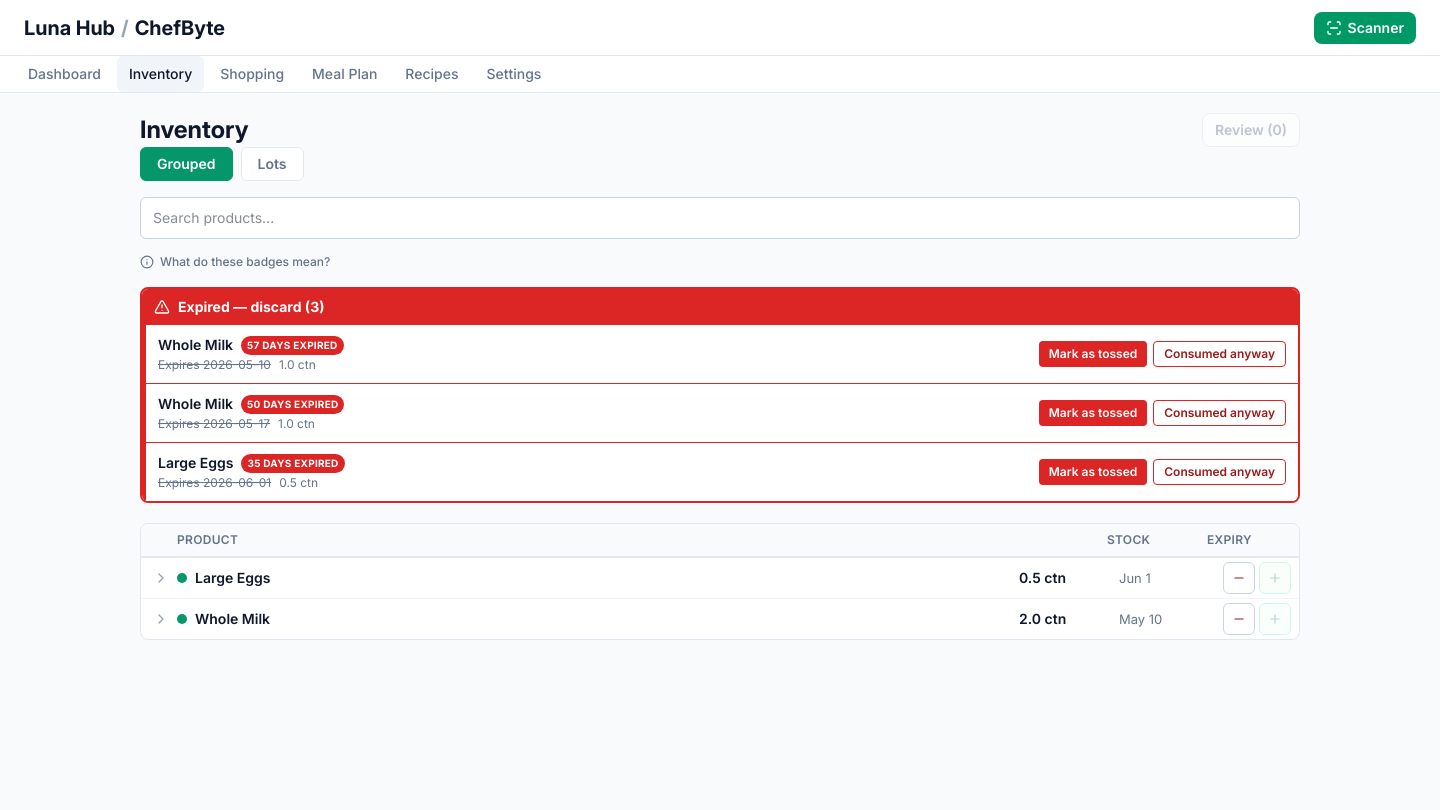
Test: InventoryPage — view-mode toggle › clicking Grouped from lots view returns to grouped view
The width and height of the screenshot is (1440, 810).
Expected: the element with test id "inventory-view-toggle" is shown, [140,147,304,181]
Click the button "Lots": (272, 164) [241,147,304,181]
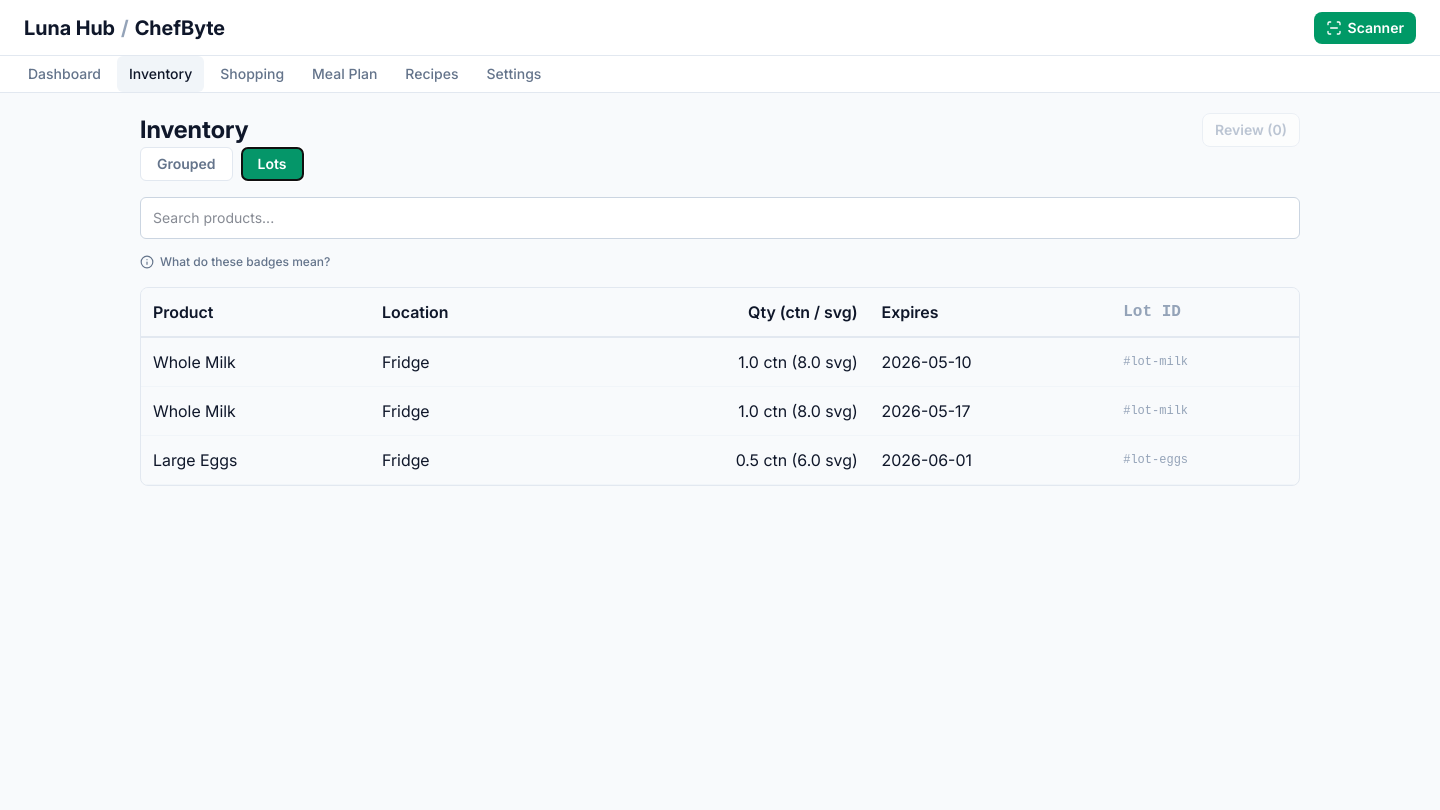
Expected: the element with test id "lots-view" is shown, [140,287,1300,486]
Click the button "Grouped": (186, 164) [140,147,233,181]
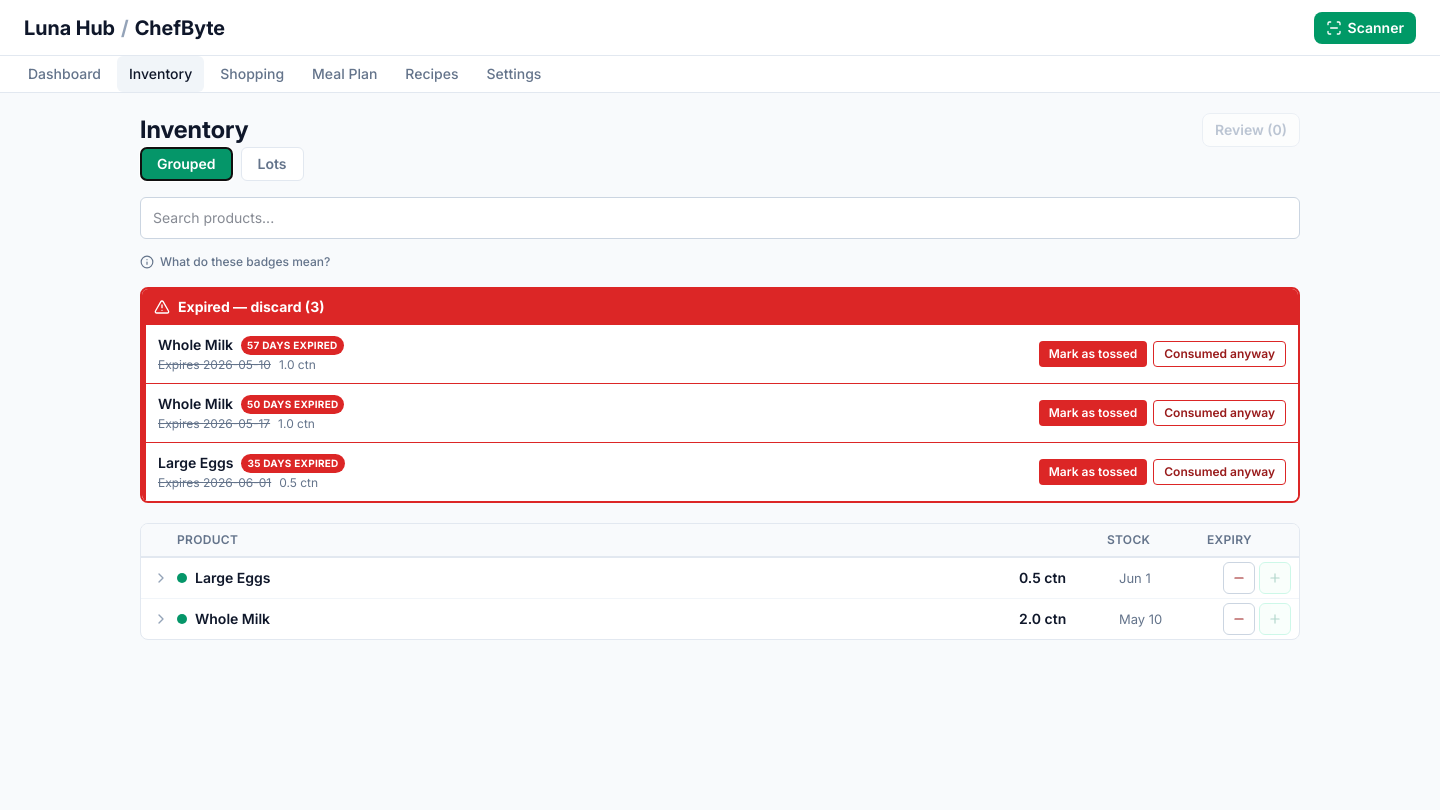
Expected: the element with test id "grouped-view" is shown, [140,523,1300,640]
Expected: the element with test id "lots-view" is gone
